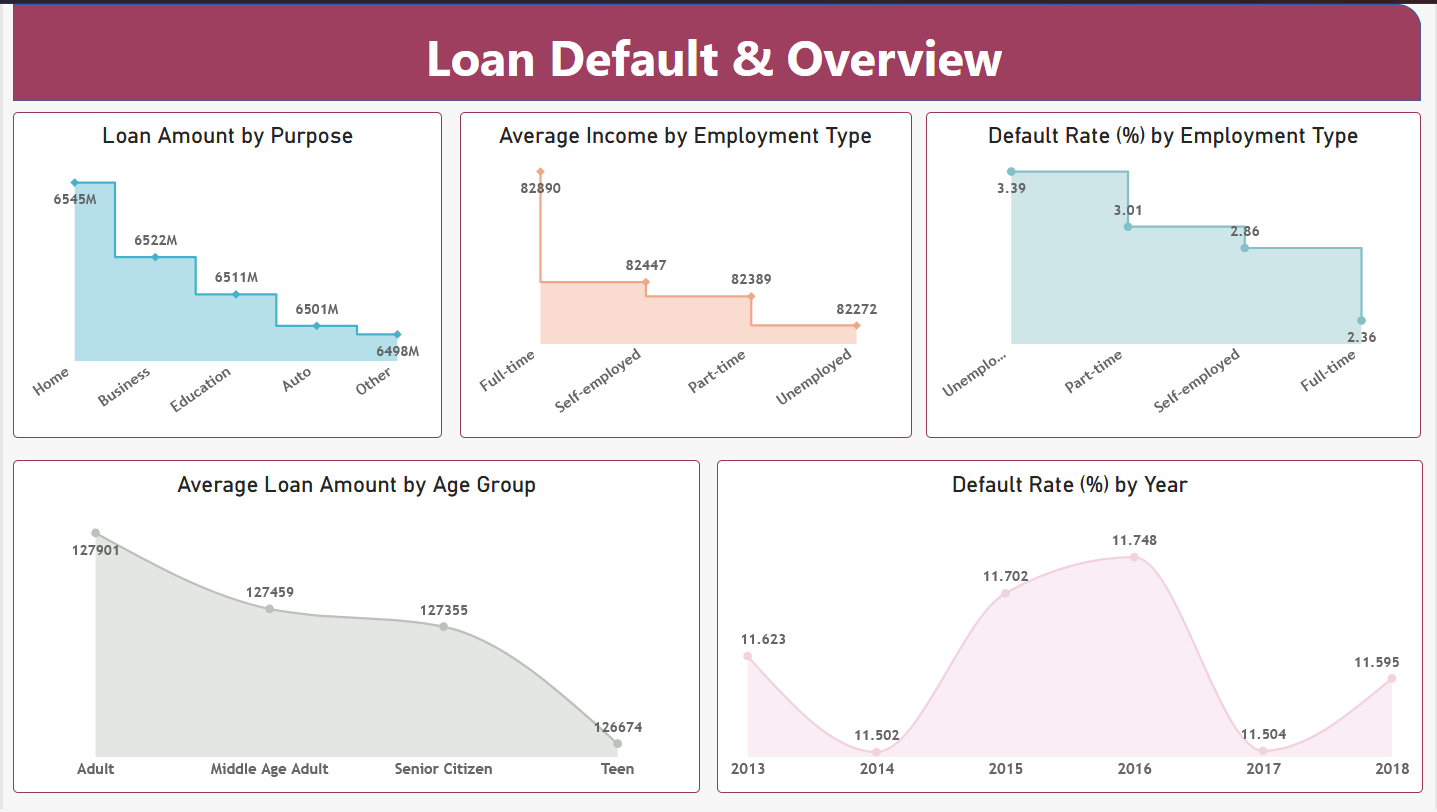

The page's visual inventory and layout, read from the dashboard file:
{"tool":"powerbi","page":{"name":"Loan Default Overview","canvas":[1920,1080],"ordinal":0},"visuals":[{"type":"lineChart","title":"Loan Amount by Purpose","fields":{"Category":["Loan_default.LoanPurpose"],"Y":["Measures Table1.Loan Amount by Purpose"]},"box":[12.7,144.8,575.5,437.9],"z":0},{"type":"shape","title":"Loan Deafult & Overview","box":[12.7,0,1889.3,130.3],"z":1000},{"type":"lineChart","title":"Average Income by Employment Type","fields":{"Category":["Loan_default.EmploymentType"],"Y":["Measures Table1.Average Income by Employement Type"]},"box":[611.7,144.8,606.2,437.9],"z":2000},{"type":"lineChart","title":"Default Rate (%) by Employment Type","fields":{"Category":["Loan_default.EmploymentType"],"Y":["Measures Table1.Deafult Rate by Employment Type"]},"box":[1237.8,144.8,664.1,437.9],"z":3000},{"type":"lineChart","title":"Average Loan Amount by Age Group","fields":{"Category":["Loan_default.Age Groups"],"Y":["Measures Table1.Average Loan by Age Group"]},"box":[12.7,611.7,921.1,447],"z":4000},{"type":"lineChart","title":"Default Rate (%) by Year","fields":{"Category":["Loan_default.Year"],"Y":["Measures Table1.Default rate by Year"]},"box":[957.3,611.7,946.5,447],"z":5000}]}

Visuals, with their boxes in screenshot pixels (x1, y1, x2, y2), scaled from the page's 1920x1080 canvas onto the 1437x812 screenshot:
"Loan Amount by Purpose" lineChart: 10, 109, 440, 438
"Loan Deafult & Overview" shape: 10, 0, 1424, 98
"Average Income by Employment Type" lineChart: 458, 109, 912, 438
"Default Rate (%) by Employment Type" lineChart: 926, 109, 1423, 438
"Average Loan Amount by Age Group" lineChart: 10, 460, 699, 796
"Default Rate (%) by Year" lineChart: 716, 460, 1425, 796
